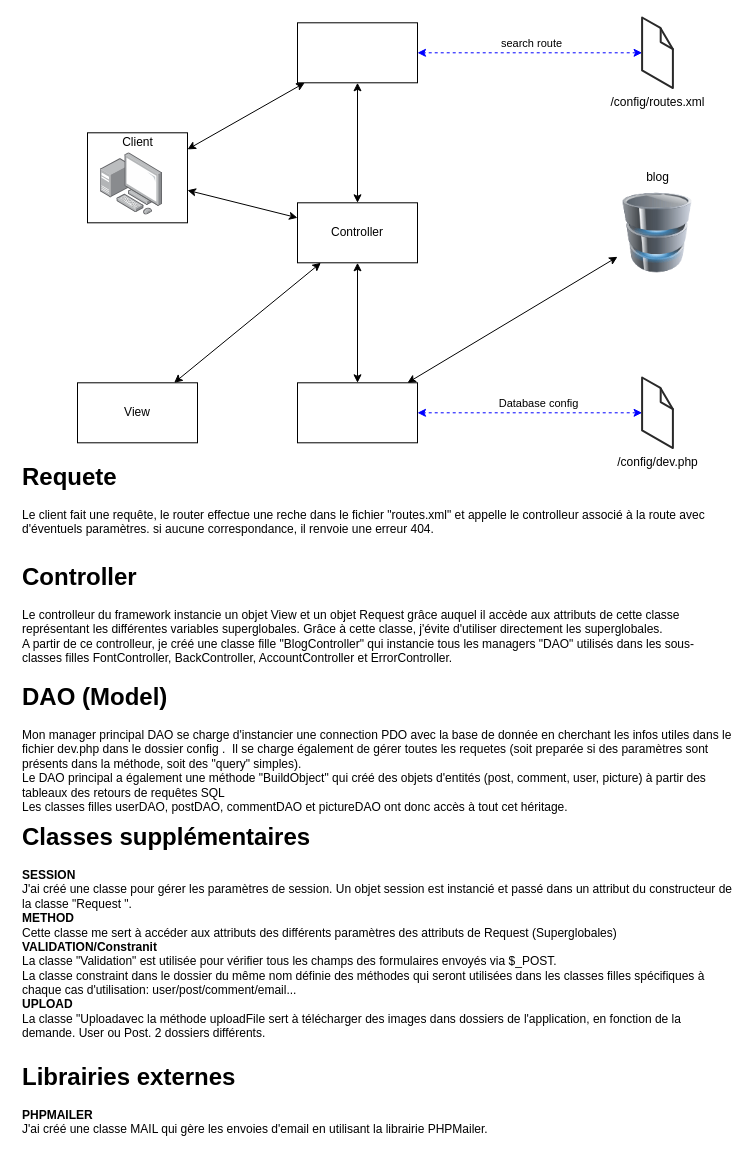
Some shapes in this 754 by 1175 pixel diagram are drawn without their labels. Here are the shapes that lost their labels. From the top down, the centre of each, then its label:
pixel 357 52: Router
pixel 357 412: Model (DAO)
